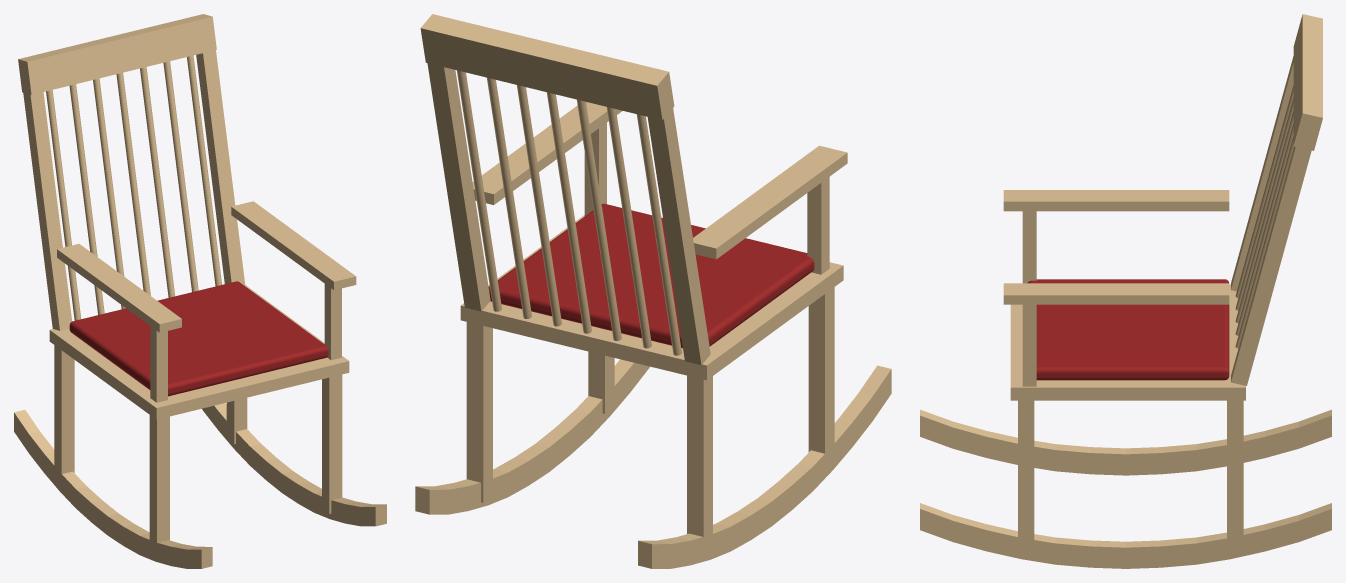
The model's file is 014_rocking_chair.glb.
3 views of the same model, side by side, from view 1: azimuth 30°, elevation 25°; view 2: azimuth 150°, elevation 25°; view 3: azimuth 270°, elevation 25° (orthographic). The views are drawn at different scales.
Parts seen in each view (by area): view 1: 007_seat_pad, 014_crest_rail, 006_seat, 000_rocker, 012_back_post, 013_back_post, 001_rocker, 011_armrest, 009_armrest, 004_front_leg, 002_front_leg, 003_back_leg (+10 smaller); view 2: 007_seat_pad, 014_crest_rail, 006_seat, 000_rocker, 001_rocker, 012_back_post, 013_back_post, 009_armrest, 005_back_leg, 002_front_leg, 003_back_leg, 011_armrest (+10 smaller); view 3: 007_seat_pad, 001_rocker, 000_rocker, 006_seat, 011_armrest, 009_armrest, 013_back_post, 014_crest_rail, 004_front_leg, 005_back_leg, 012_back_post, 010_arm_post (+6 smaller).
Part boxes in pixels (box(x1,y1,x2,y2)): 007_seat_pad: box(69, 281, 328, 396); 014_crest_rail: box(18, 14, 216, 94); 006_seat: box(49, 285, 349, 419); 000_rocker: box(14, 409, 212, 568); 012_back_post: box(23, 74, 72, 330); 013_back_post: box(196, 50, 245, 285); 001_rocker: box(202, 403, 386, 526); 011_armrest: box(231, 201, 356, 290); 009_armrest: box(57, 244, 181, 332); 004_front_leg: box(322, 374, 342, 513); 002_front_leg: box(149, 415, 169, 550); 003_back_leg: box(54, 345, 74, 485); 007_seat_pad: box(488, 203, 814, 348); 014_crest_rail: box(420, 14, 674, 120); 006_seat: box(460, 215, 843, 380); 000_rocker: box(638, 365, 891, 568); 001_rocker: box(415, 359, 649, 514); 012_back_post: box(647, 86, 710, 365); 013_back_post: box(427, 63, 490, 311); 009_armrest: box(693, 145, 847, 259); 005_back_leg: box(466, 322, 492, 502); 002_front_leg: box(808, 287, 834, 466); 003_back_leg: box(687, 375, 712, 554); 011_armrest: box(472, 102, 622, 204); 007_seat_pad: box(1028, 279, 1229, 380); 001_rocker: box(920, 503, 1331, 568); 000_rocker: box(920, 409, 1331, 475); 006_seat: box(1010, 284, 1245, 400); 011_armrest: box(1003, 283, 1229, 304); 009_armrest: box(1003, 190, 1229, 211); 013_back_post: box(1231, 126, 1317, 385); 014_crest_rail: box(1293, 14, 1322, 150); 004_front_leg: box(1018, 400, 1034, 551); 005_back_leg: box(1227, 400, 1243, 551); 012_back_post: box(1231, 56, 1293, 291); 010_arm_post: box(1022, 304, 1036, 386).
Bounding box in the file's own units: 0.53 × 1.07 × 0.876.
